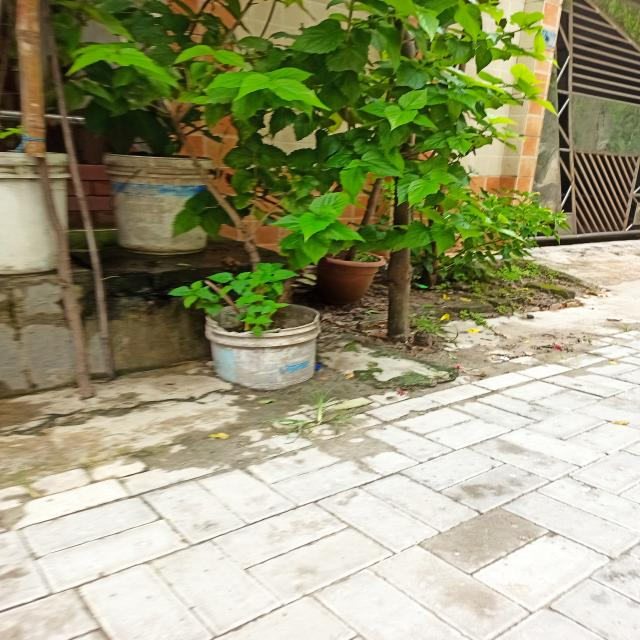artificial_container: (101, 152, 214, 255), (204, 303, 321, 390), (0, 151, 72, 275), (308, 251, 389, 314)
